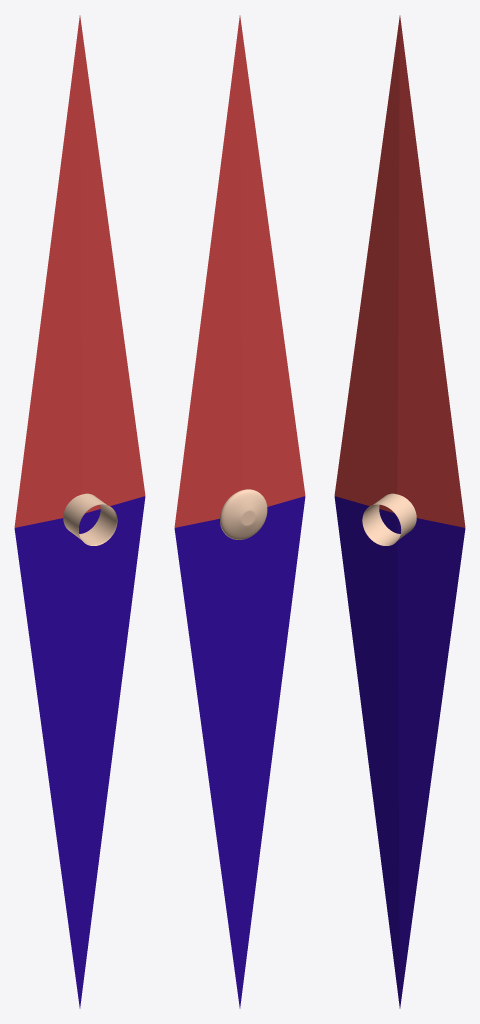
File: needle.glb
3 renders of one model, left to right at view 1: azimuth 30°, elevation 25°; view 2: azimuth 210°, elevation 25°; view 3: azimuth 330°, elevation 25°, orthographic.
Visible parts, largest first — view 1: Compass_needle; view 2: Compass_needle; view 3: Compass_needle.
Boxes of the visible parts, x1,y1,x2,y2 form: Compass_needle: [14, 15, 145, 1008]; Compass_needle: [174, 15, 305, 1008]; Compass_needle: [334, 15, 465, 1008].
Size of the model in its own units: 0.2119 by 1.54 by 0.0748.
